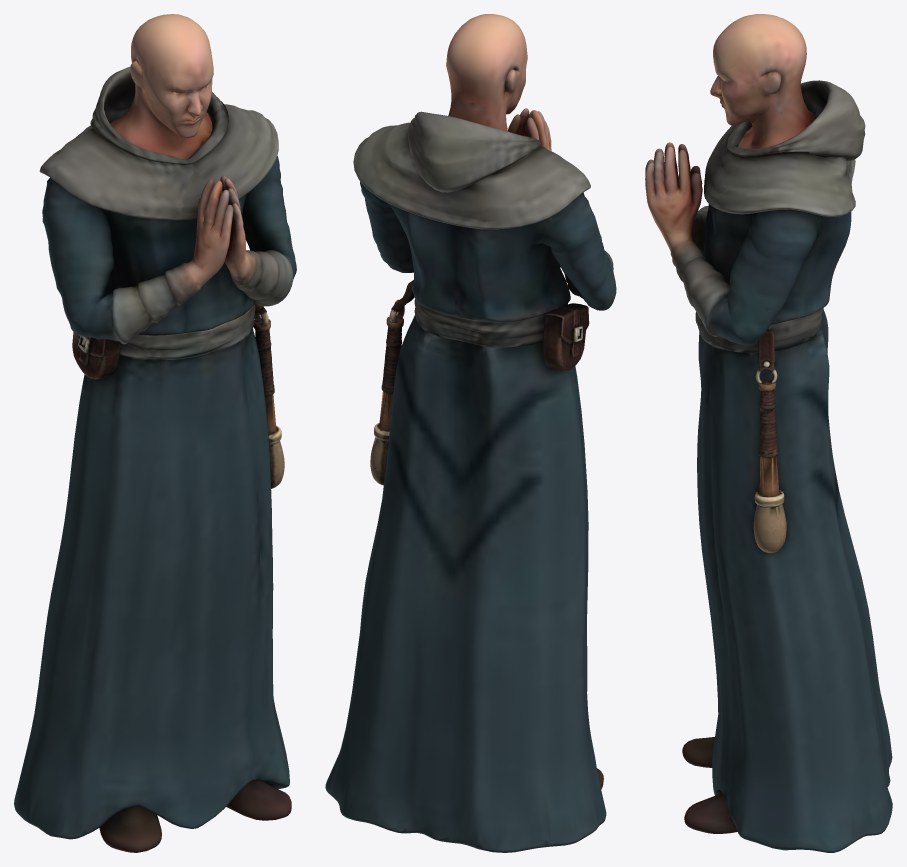
File: MZ4250 - Acolyte Male_1 2025.glb
3 views of the same model, side by side, from view 1: azimuth 30°, elevation 25°; view 2: azimuth 150°, elevation 25°; view 3: azimuth 270°, elevation 25° (orthographic). The views are drawn at different scales.
Visible parts, largest first — view 1: Body.003; view 2: Body.003; view 3: Body.003.
Boxes of the visible parts, bbox=[...] form: Body.003: bbox=[14, 14, 296, 852]; Body.003: bbox=[325, 14, 616, 852]; Body.003: bbox=[645, 14, 892, 852].
Size of the model in its own units: 31.41 by 91.65 by 26.52.
Materials: 2 (2 with a texture image).
